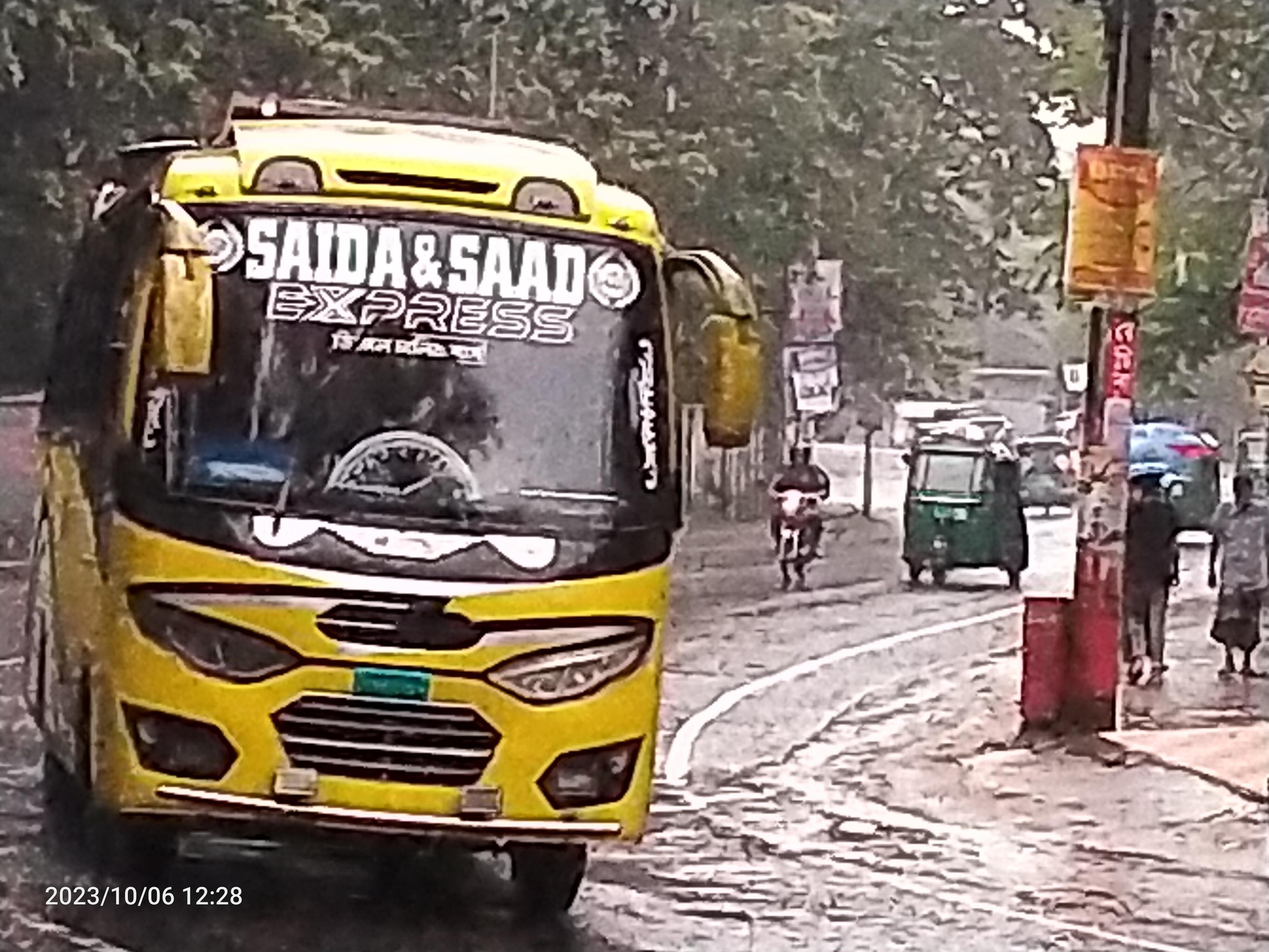Bike: (10, 50, 767, 952), (757, 423, 835, 613)
